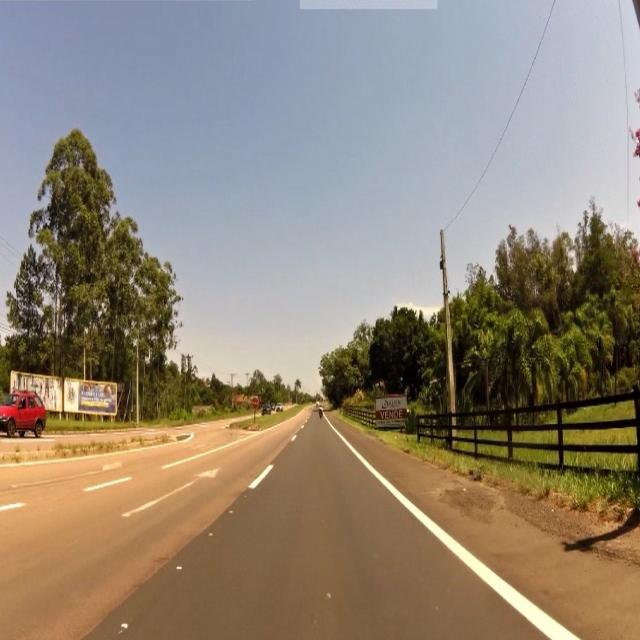R-2: (252, 398, 258, 410)
